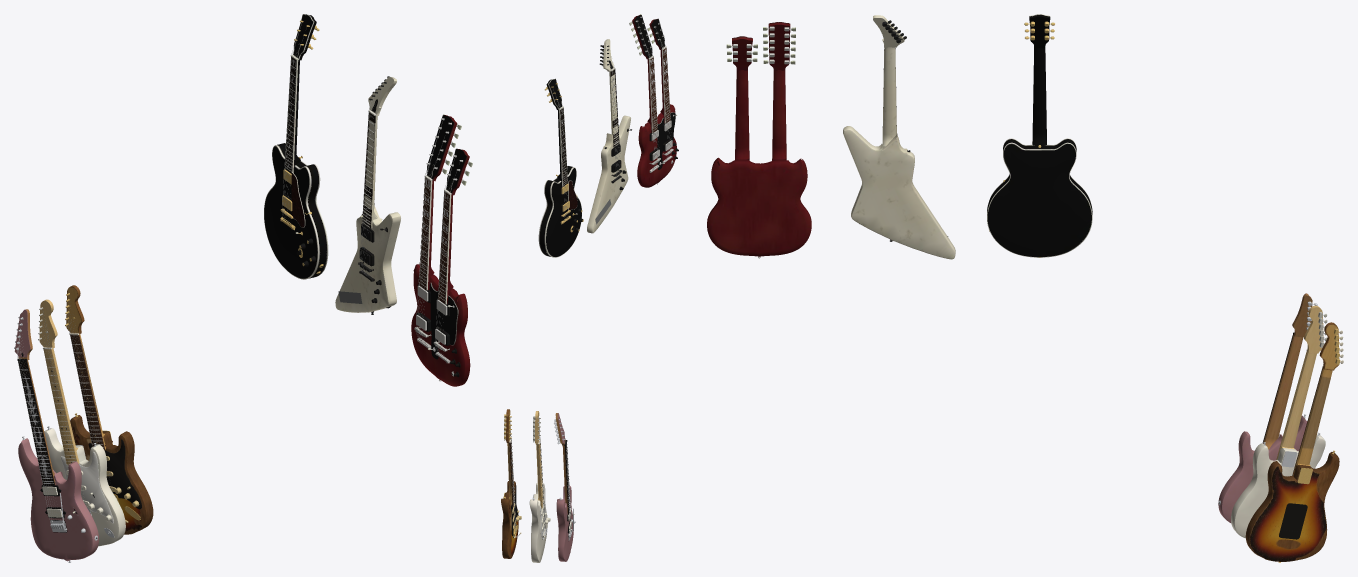
File: guitars.glb
The picture shows the model from 3 angles, left to right: view 1: azimuth 30°, elevation 25°; view 2: azimuth 150°, elevation 25°; view 3: azimuth 270°, elevation 25°; orthographic projection. The views are drawn at different scales.
Parts seen in each view (by area): view 1: guitar_03_body, guitar_01_body, guitar_06_body, guitar_05_body, guitar_02_body, guitar_04_body, guitar_03_strings; view 2: guitar_03_body, guitar_01_body, guitar_05_body, guitar_02_body, guitar_04_body, guitar_06_body, guitar_03_strings; view 3: guitar_03_body, guitar_01_body, guitar_05_body, guitar_04_body, guitar_02_body, guitar_06_body.
Boxes of the visible parts, bbox=[...] form: guitar_03_body: bbox=[411, 114, 472, 386]; guitar_01_body: bbox=[264, 14, 328, 279]; guitar_06_body: bbox=[14, 309, 98, 562]; guitar_05_body: bbox=[335, 76, 400, 314]; guitar_02_body: bbox=[38, 299, 125, 546]; guitar_04_body: bbox=[65, 285, 153, 534]; guitar_03_strings: bbox=[415, 120, 456, 356]; guitar_03_body: bbox=[629, 14, 678, 187]; guitar_01_body: bbox=[538, 78, 583, 257]; guitar_05_body: bbox=[587, 39, 631, 233]; guitar_02_body: bbox=[529, 411, 550, 562]; guitar_04_body: bbox=[501, 409, 521, 558]; guitar_06_body: bbox=[554, 413, 575, 561]; guitar_03_strings: bbox=[637, 22, 671, 168]; guitar_03_body: bbox=[707, 22, 811, 258]; guitar_01_body: bbox=[987, 14, 1092, 257]; guitar_05_body: bbox=[843, 15, 955, 259]; guitar_04_body: bbox=[1245, 322, 1343, 562]; guitar_02_body: bbox=[1231, 305, 1327, 538]; guitar_06_body: bbox=[1218, 293, 1317, 522].
Size of the model in its own units: 0.7202 by 2.45 by 2.44.
12 materials, 6 textured.
